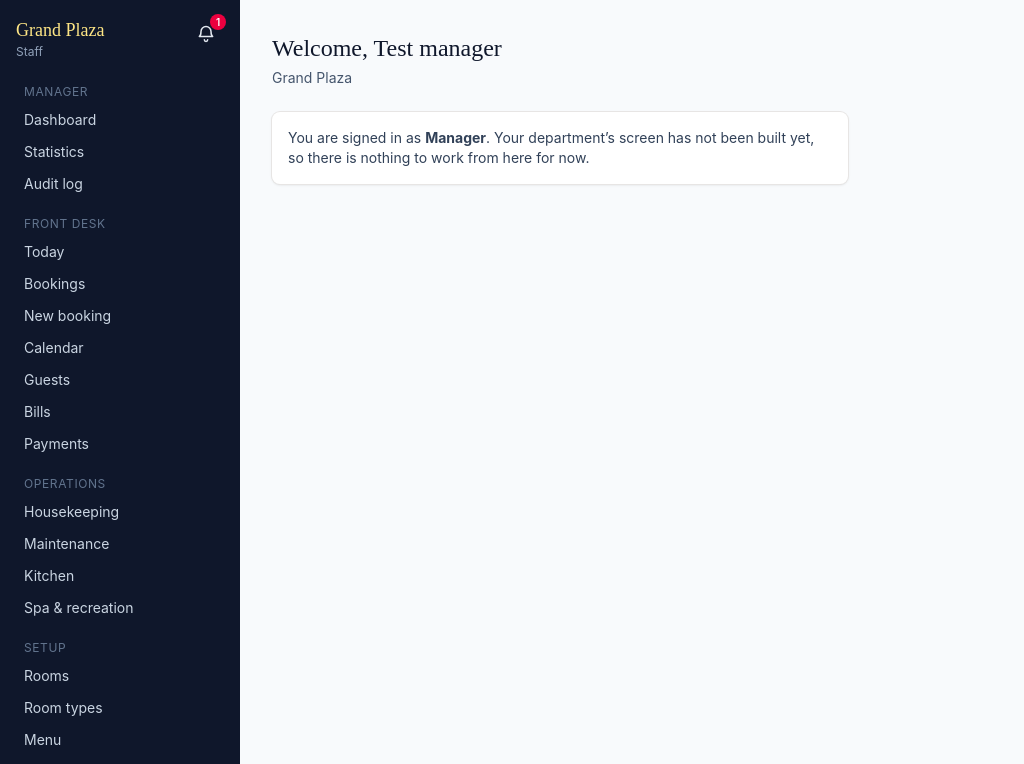
Scenario: the notification bell › shows an error with a retry button when the list cannot be loaded
Click the button named "Notifications".
click(206, 34)  # box [188, 16, 224, 52]
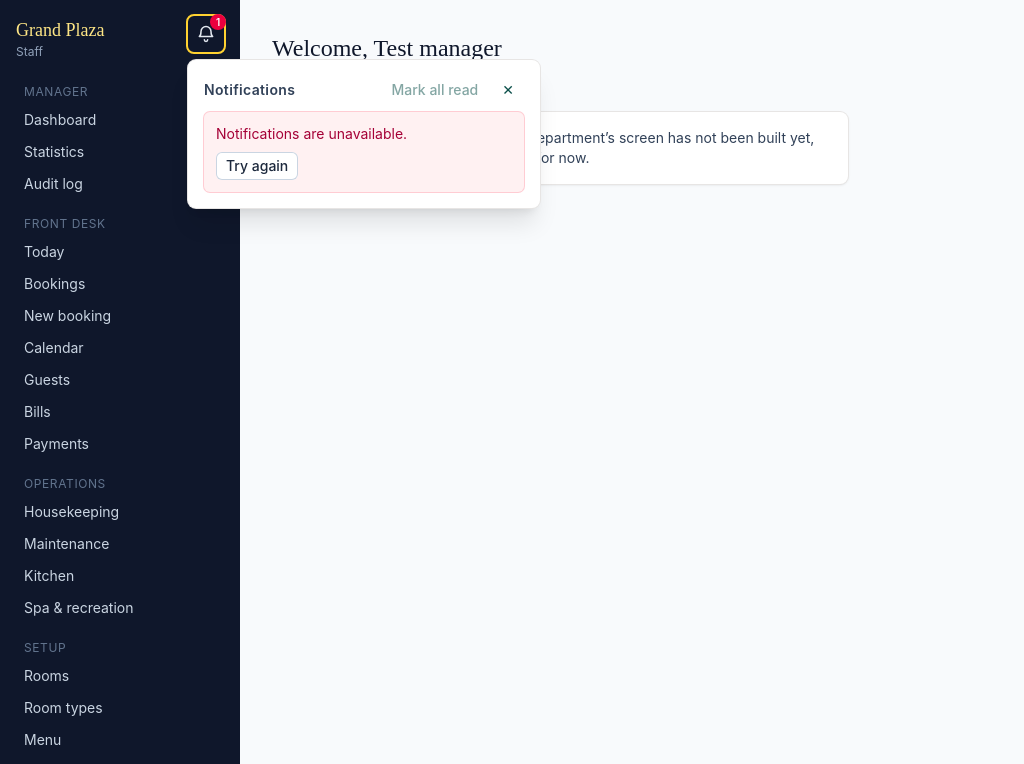
Expected: the message shows "Notifications are unavailable.", [216, 125, 407, 142]
Click the button "Try again".
click(257, 166)  # box [216, 152, 298, 180]
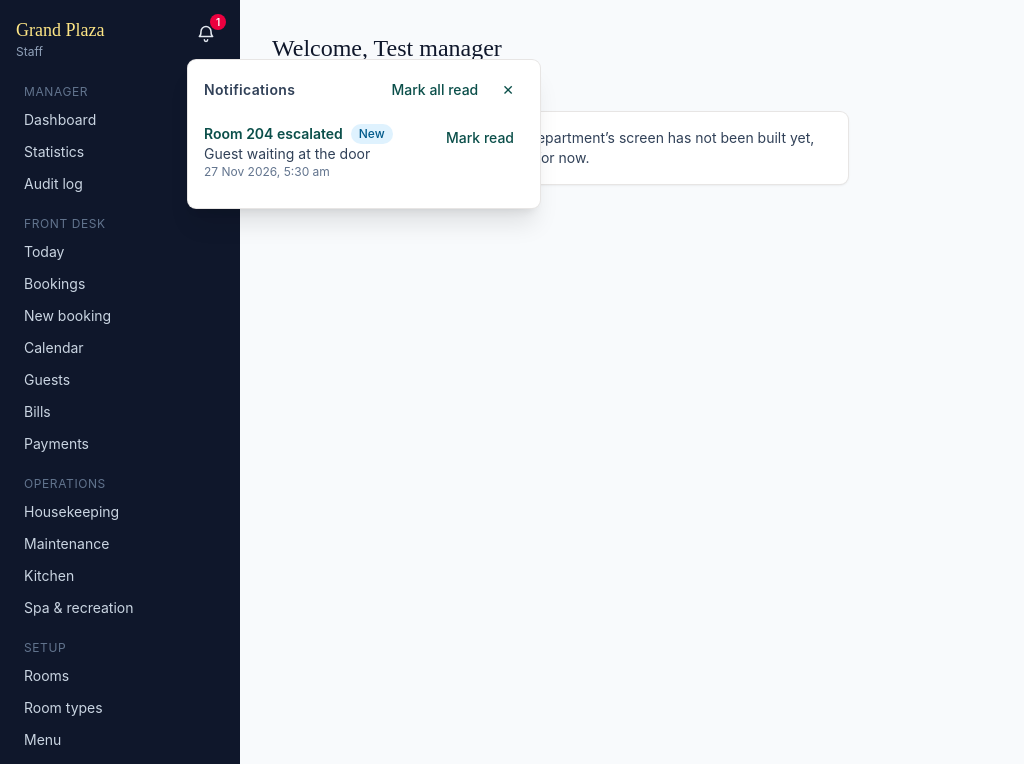
Expected: the button "Room 204 escalated" is shown, [204, 124, 343, 144]
